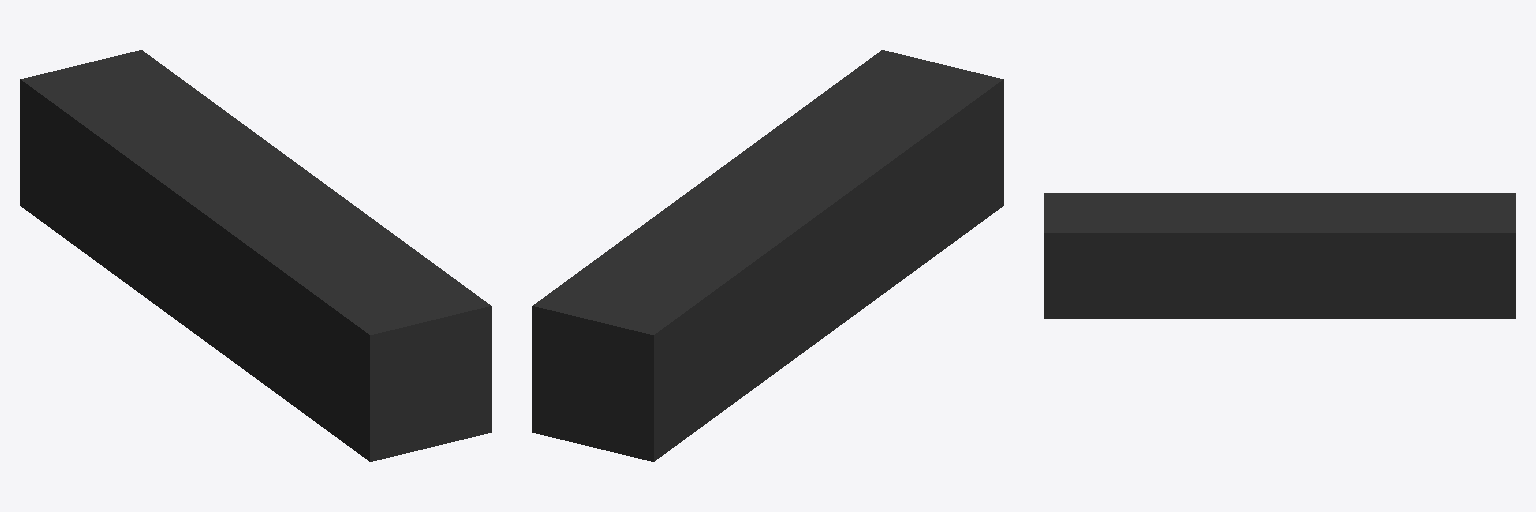
URDF robot description (backwall):
<?xml version="1.0"?> 
<robot name="backwall">
    <!-- Colors --> 
    <material name="gray"> 
        <color rgba="0.25 0.25 0.25 1"/>
    </material>


    <link name="base_link">
        <visual>
            <geometry>
                <box size="0.25 1.25 0.25"/>
            </geometry>
            <material name="gray"/>
        </visual>
        <collision>
            <geometry>
                <box size="0.25 1.25 0.25"/>
            </geometry>
        </collision>
    </link>
</robot>

--- Facts derived from the render (not from the file) ---
Views: 3 orthographic renders of the robot side by side, from view 1: azimuth 30°, elevation 25°; view 2: azimuth 150°, elevation 25°; view 3: azimuth 270°, elevation 25°.
Robot: backwall — 1 links, 0 joints (none); root link base_link; default pose: all joints at 0.
Links seen in each view (by area): view 1: base_link; view 2: base_link; view 3: base_link.
Link boxes in pixels (x1,y1,x2,y2): base_link: (20,50,491,461); base_link: (532,50,1003,461); base_link: (1044,193,1515,318).
Bounding box of the posed robot: 0.25 × 1.25 × 0.25 m (x, y, z).
Geometry: primitives only (box / cylinder / sphere), no mesh files.